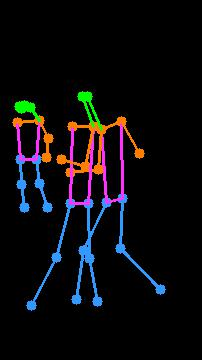normal: (10, 98, 55, 219)
